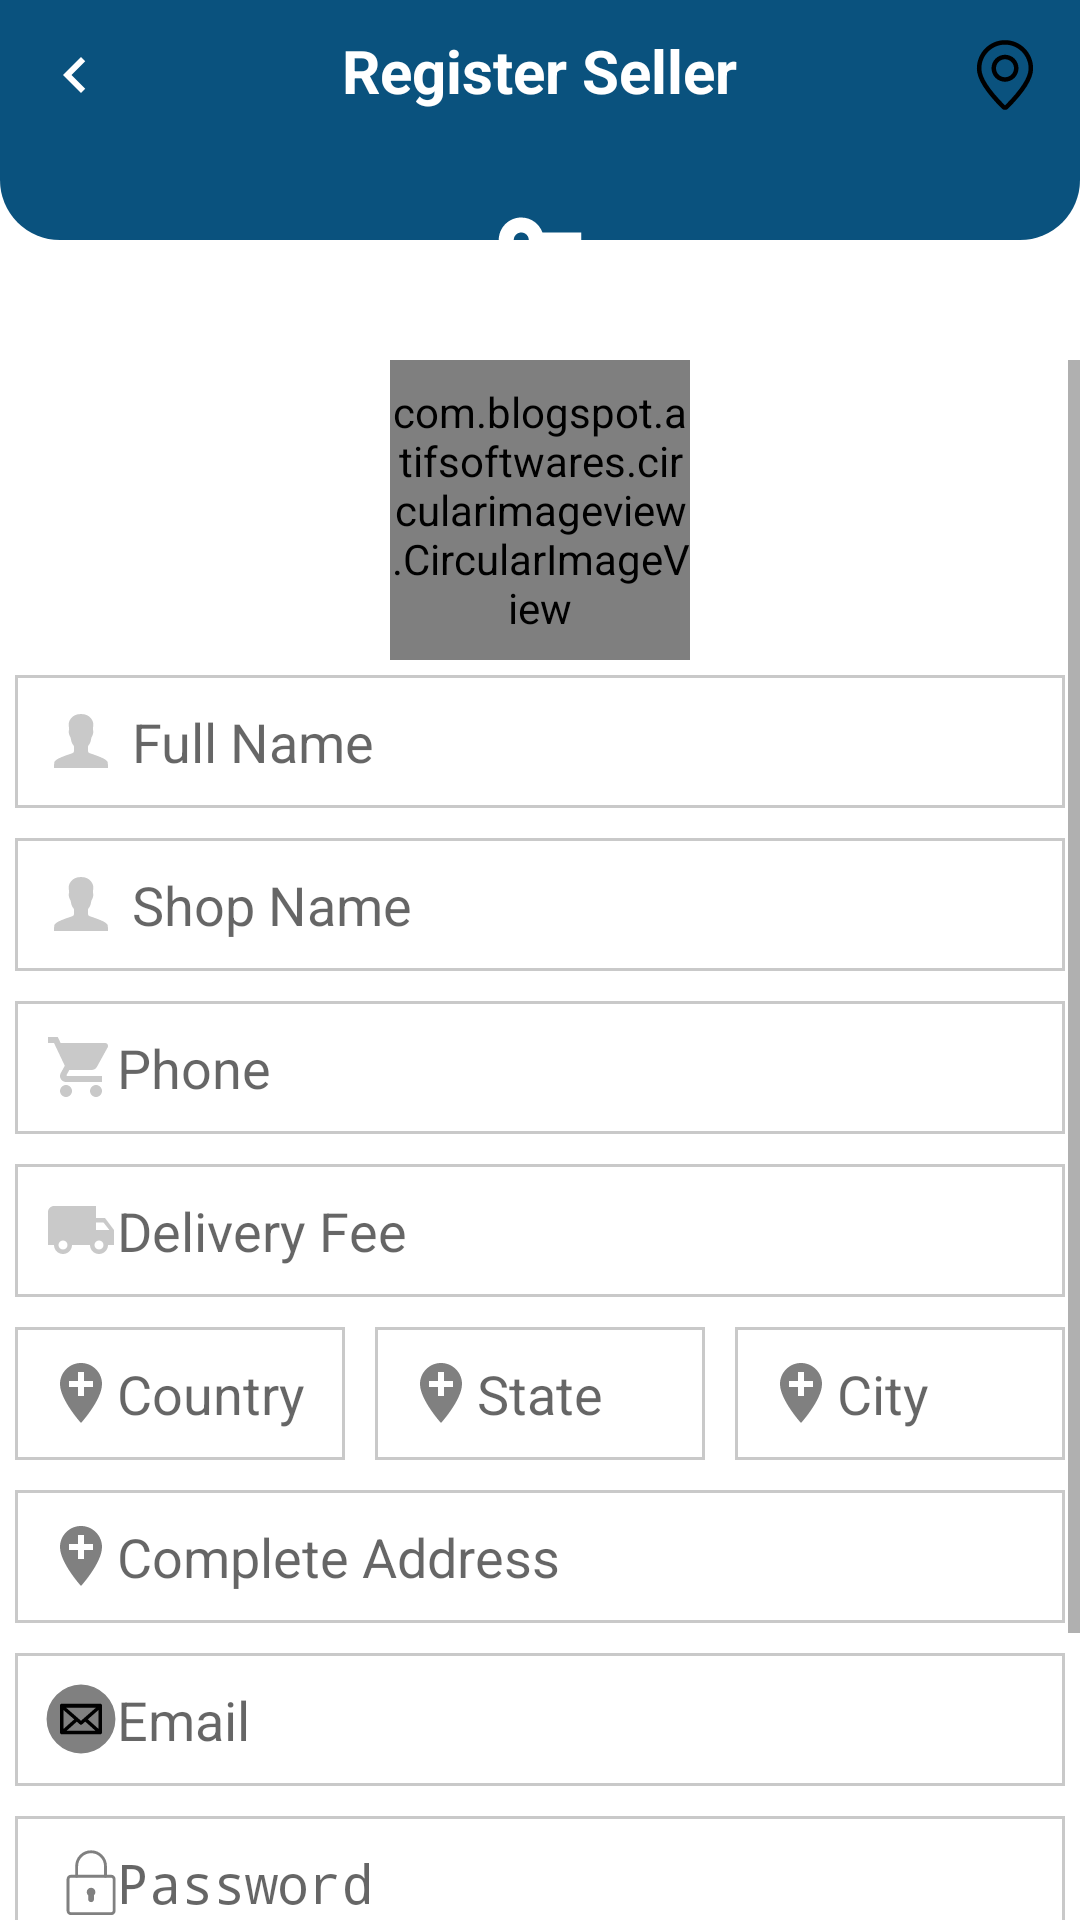

Icons on this 1080 × 1920 Android screen, each with its box as (x1, y1, x2, y2):
back: (63, 57, 85, 93)
